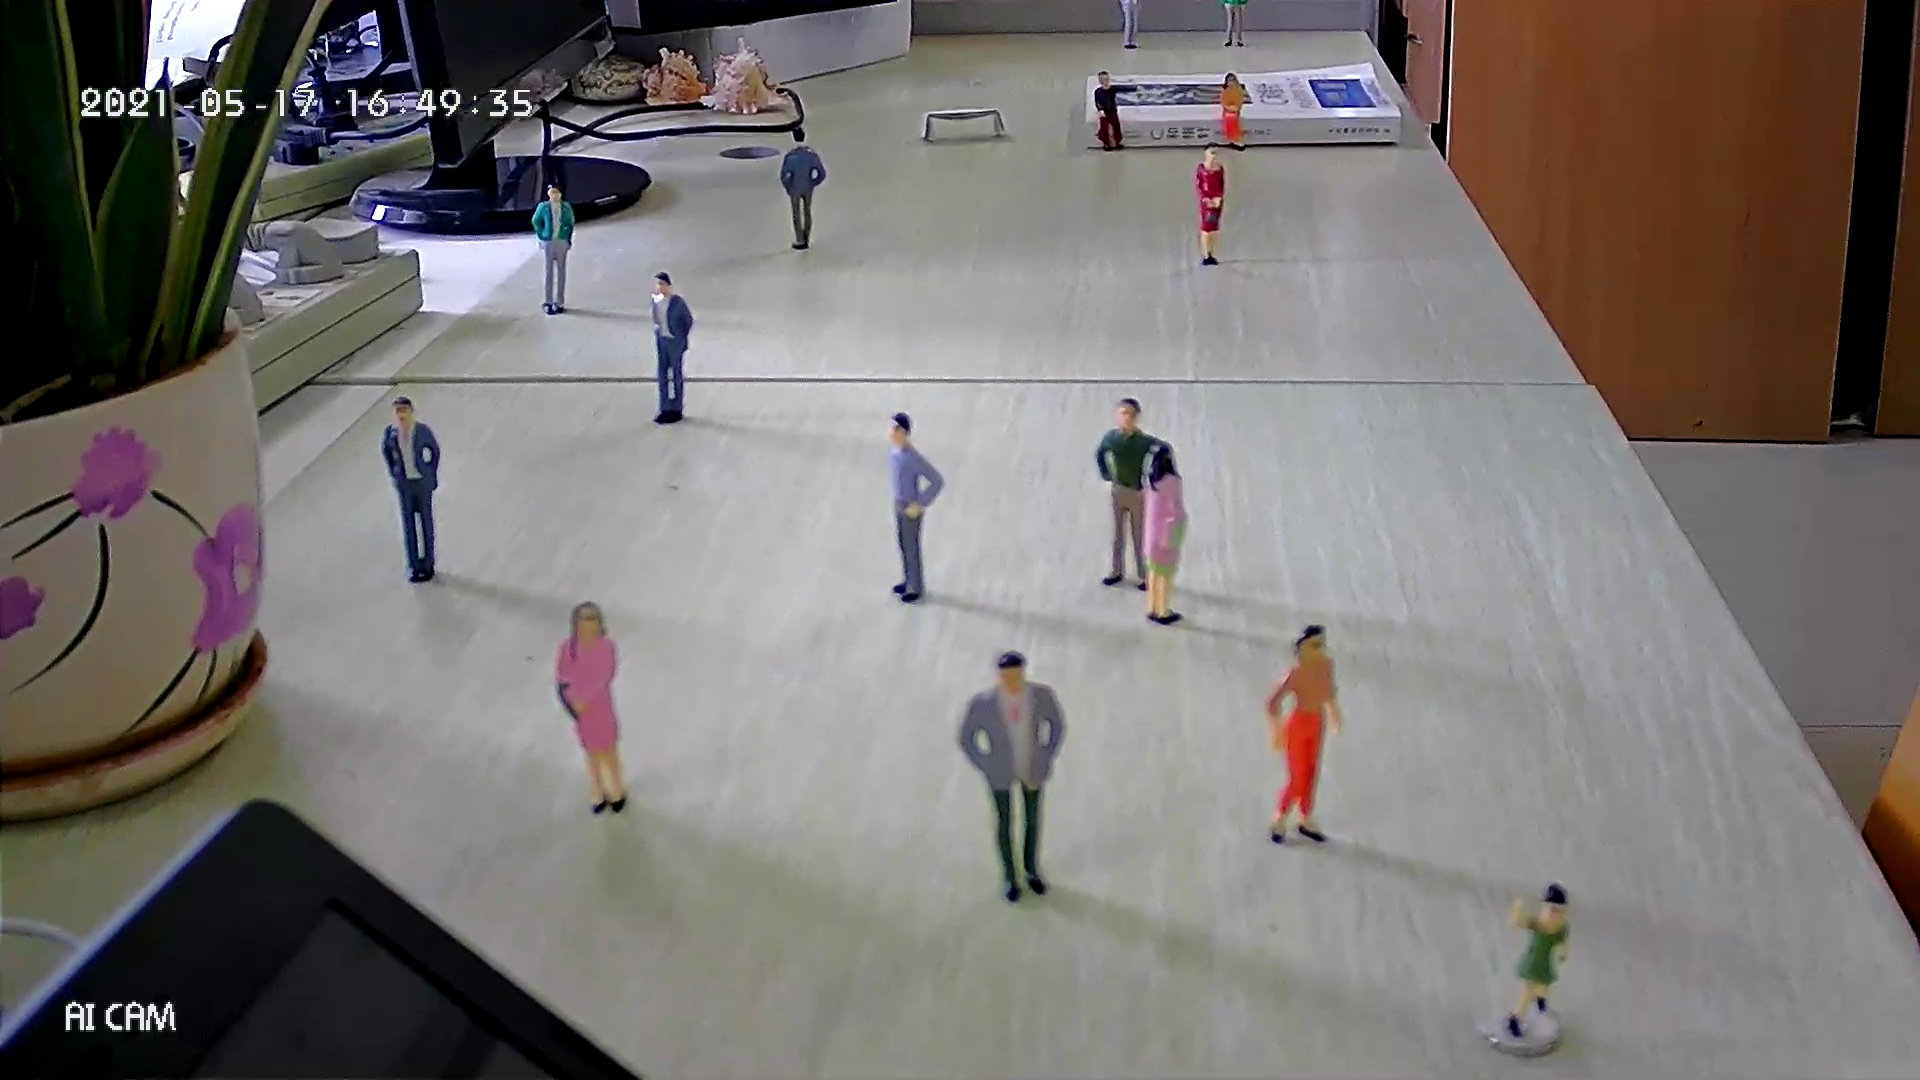person: (953, 648, 1069, 906), (1259, 620, 1351, 846), (553, 596, 633, 818), (1091, 396, 1171, 596), (883, 408, 949, 606), (381, 394, 447, 588), (1503, 880, 1577, 1042), (1135, 436, 1191, 630), (647, 266, 699, 428), (527, 172, 579, 320), (781, 124, 829, 254), (1089, 66, 1145, 156), (1193, 142, 1229, 266), (1217, 70, 1255, 154), (1218, 1, 1249, 52), (1119, 1, 1145, 54)
